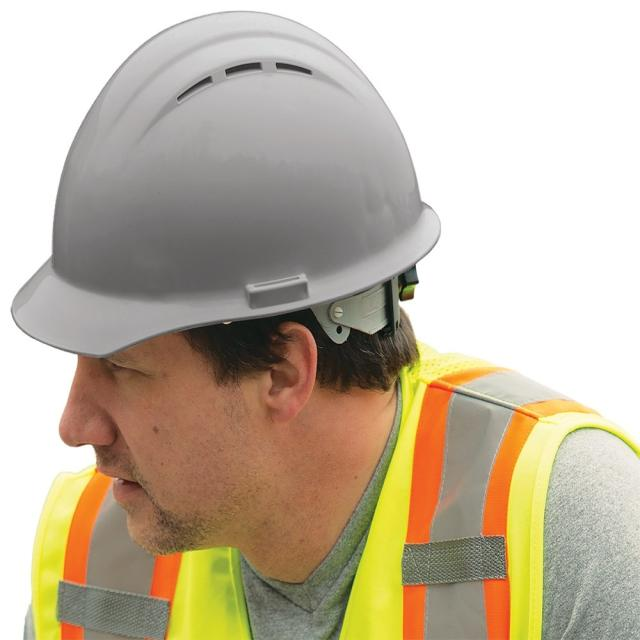helmet: (0, 9, 446, 351)
no-goggles: (2, 337, 278, 413)
vest: (31, 442, 616, 640)
